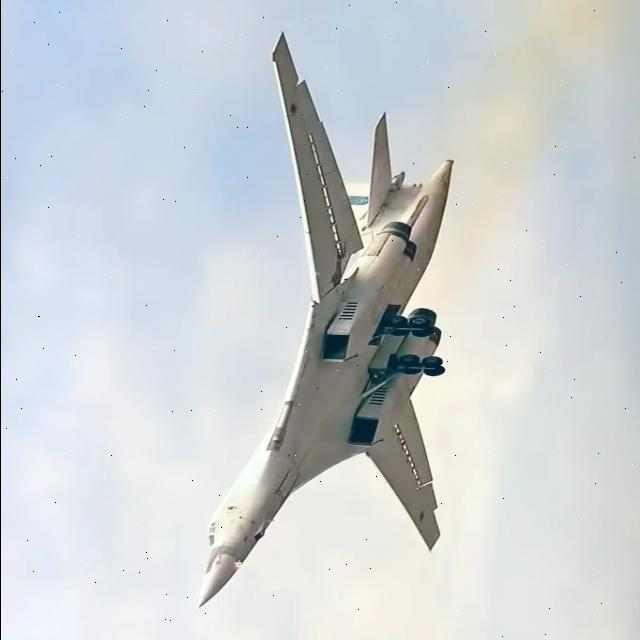Tu160: (128, 18, 496, 622)
